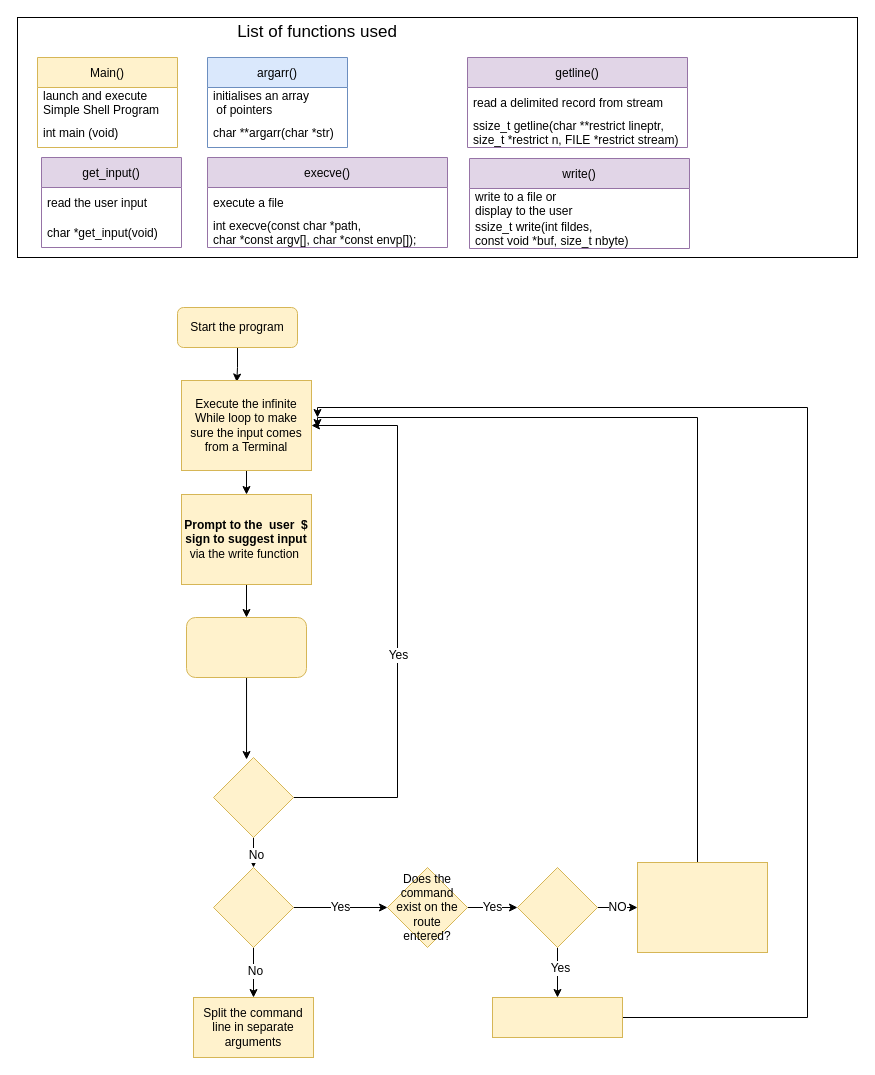
The diagram is 875 pixels wide and 1075 high, and some of its shapes have lost their labels. Here are the shapes that lost their labels. From the top down, the centre of each, then its label:
At (x=246, y=647): "Receives a command through get_input()".
At (x=253, y=797): "Is the first character '\n'?".
At (x=253, y=907): "Is the first character '\'?".
At (x=557, y=907): "Can it be interpreted?".
At (x=702, y=907): "Prompt to the user Permission denied via the Stderr".
At (x=557, y=1017): "Execute the command".
